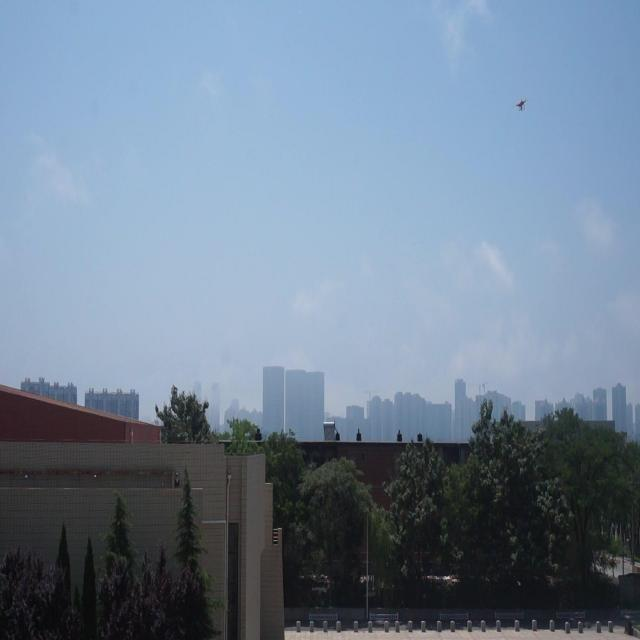UAV: (514, 99, 528, 112)
